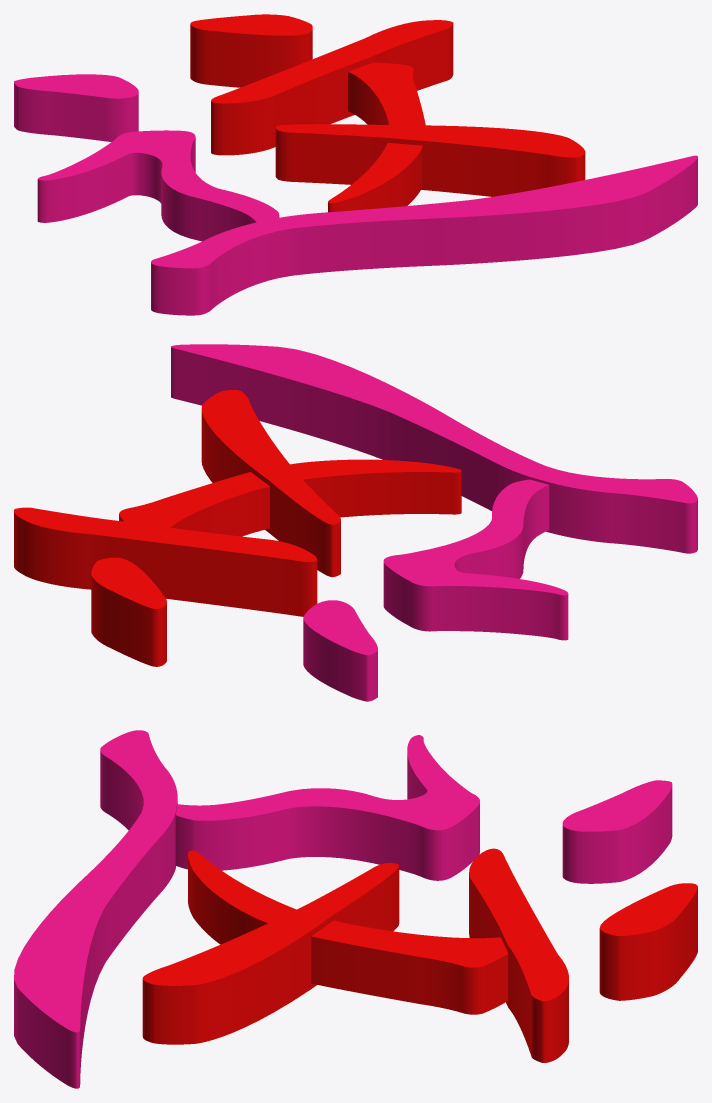
The model's file is hanzi233.fbx.
3 renders of one model, top to bottom at view 1: azimuth 30°, elevation 25°; view 2: azimuth 150°, elevation 25°; view 3: azimuth 270°, elevation 25°, orthographic. The views are drawn at different scales.
Parts seen in each view (by area): view 1: Curve.006, Curve.003, Curve.001, Curve.005, Curve.002, Curve, Curve.004; view 2: Curve.006, Curve.001, Curve.005, Curve.002, Curve.003, Curve, Curve.004; view 3: Curve.006, Curve.005, Curve.003, Curve.002, Curve.001, Curve, Curve.004.
Part boxes in pixels (x1,y1,x2,y2): Curve.006: (151, 155, 697, 315); Curve.003: (275, 124, 585, 196); Curve.001: (211, 20, 453, 155); Curve.005: (37, 130, 279, 241); Curve.002: (328, 62, 425, 212); Curve: (190, 14, 312, 87); Curve.004: (14, 74, 138, 141); Curve.006: (171, 344, 697, 553); Curve.001: (14, 507, 317, 616); Curve.005: (383, 479, 568, 640); Curve.002: (119, 459, 461, 536); Curve.003: (201, 390, 340, 577); Curve: (91, 557, 166, 666); Curve.004: (303, 600, 377, 701); Curve.006: (14, 730, 177, 1088); Curve.005: (175, 735, 479, 880); Curve.003: (142, 863, 399, 1044); Curve.002: (188, 850, 508, 1014); Curve.001: (469, 848, 568, 1062); Curve: (599, 883, 697, 1000); Curve.004: (562, 780, 672, 883).
Size of the model in its own units: 23.85 by 22.8 by 2.38.
